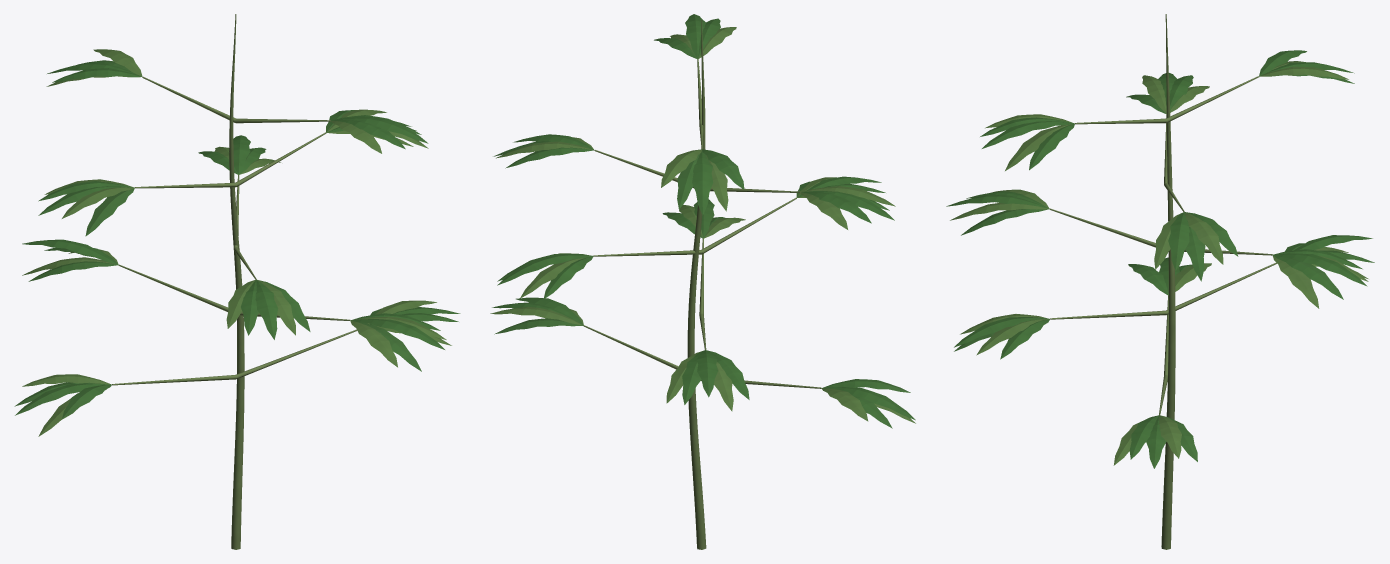
File: roslina_2.glb
3 views of the same model, side by side, from view 1: azimuth 30°, elevation 25°; view 2: azimuth 150°, elevation 25°; view 3: azimuth 270°, elevation 25° (orthographic).
Visible parts, largest first — view 1: Roslina; view 2: Roslina; view 3: Roslina.
Boxes of the visible parts, <box> form: Roslina: <box>14,14,460,549</box>; Roslina: <box>490,14,915,549</box>; Roslina: <box>946,14,1374,549</box>.
Size of the model in its own units: 0.8591 by 1 by 0.7316.
Materials: 1 (1 with a texture image).
